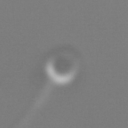normal: (9, 80, 55, 128)
